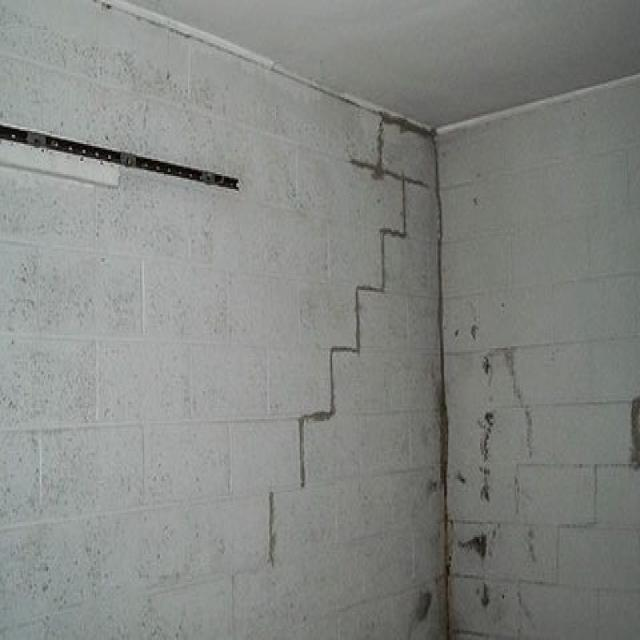Crack: (267, 168, 401, 558)
